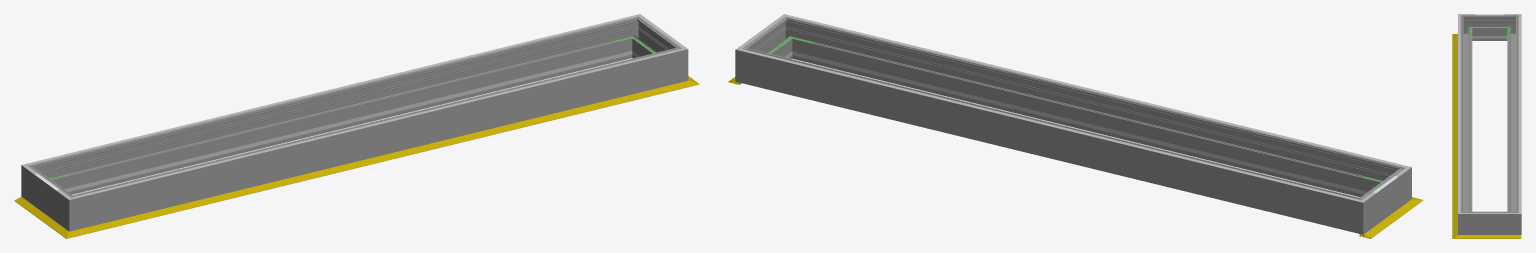
The picture shows the model from 3 angles, left to right: view 1: azimuth 30°, elevation 25°; view 2: azimuth 150°, elevation 25°; view 3: azimuth 270°, elevation 25°; orthographic projection. The views are drawn at different scales.
Visible parts, largest first — view 1: 3DGeom-278, 3DGeom-300, 3DGeom-28, 3DGeom-246, 3DGeom-306, 3DGeom-318, 3DGeom-272, 3DGeom-292, 3DGeom-270, 3DGeom-286, 3DGeom-299, 3DGeom-280 (+1 smaller); view 2: 3DGeom-300, 3DGeom-278, 3DGeom-241, 3DGeom-306, 3DGeom-318, 3DGeom-280, 3DGeom-286, 3DGeom-270, 3DGeom-292, 3DGeom-299, 3DGeom-272, 3DGeom-38; view 3: 3DGeom-300, 3DGeom-278, 3DGeom-28, 3DGeom-306, 3DGeom-270, 3DGeom-299, 3DGeom-318, 3DGeom-292, 3DGeom-286, 3DGeom-272, 3DGeom-280, 3DGeom-30 (+6 smaller).
Boxes of the visible parts, x1,y1,x2,y2 form: 3DGeom-278: (46, 21, 628, 194); 3DGeom-300: (88, 51, 665, 225); 3DGeom-28: (85, 84, 676, 233); 3DGeom-246: (73, 56, 610, 190); 3DGeom-306: (44, 19, 618, 160); 3DGeom-318: (90, 53, 664, 194); 3DGeom-272: (56, 189, 91, 231); 3DGeom-292: (661, 40, 688, 85); 3DGeom-270: (34, 172, 63, 221); 3DGeom-286: (619, 16, 649, 58); 3DGeom-299: (634, 24, 671, 57); 3DGeom-280: (21, 161, 54, 205); 3DGeom-300: (796, 21, 1386, 197); 3DGeom-278: (758, 52, 1344, 228); 3DGeom-241: (814, 56, 1359, 193); 3DGeom-306: (759, 53, 1341, 196); 3DGeom-318: (805, 19, 1388, 162); 3DGeom-280: (1340, 191, 1376, 234); 3DGeom-286: (735, 41, 762, 86); 3DGeom-270: (1369, 175, 1398, 224); 3DGeom-292: (774, 16, 804, 59); 3DGeom-299: (752, 24, 789, 58); 3DGeom-272: (1378, 163, 1411, 208); 3DGeom-38: (1359, 206, 1410, 238); 3DGeom-300: (1460, 21, 1472, 211); 3DGeom-278: (1507, 21, 1518, 211); 3DGeom-28: (1452, 40, 1457, 231); 3DGeom-306: (1518, 21, 1521, 206); 3DGeom-270: (1475, 15, 1504, 40); 3DGeom-299: (1475, 211, 1504, 234); 3DGeom-318: (1458, 21, 1460, 206); 3DGeom-292: (1458, 206, 1475, 234); 3DGeom-286: (1504, 206, 1521, 234); 3DGeom-272: (1460, 15, 1475, 40); 3DGeom-280: (1504, 15, 1518, 40); 3DGeom-30: (1469, 235, 1521, 238).
Size of the model in its own units: 4.27 by 0.2195 by 0.6096.
